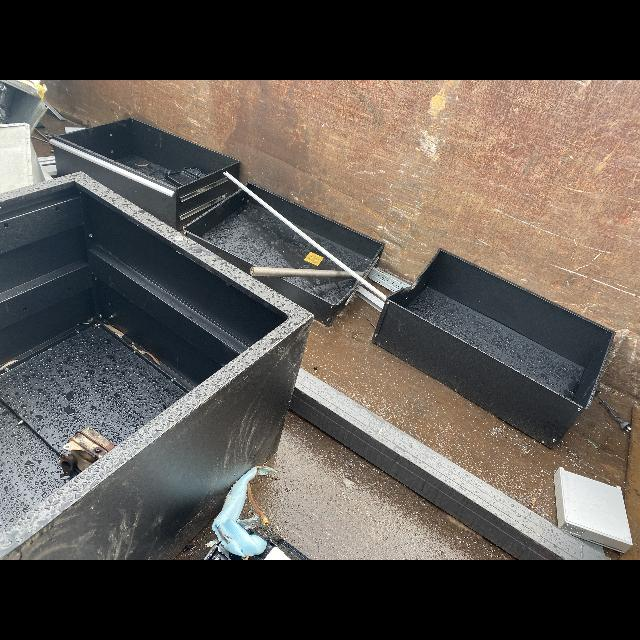Aluminium: (223, 171, 387, 301), (554, 467, 633, 554), (355, 285, 385, 313), (345, 282, 362, 305), (363, 256, 379, 279), (37, 156, 56, 165)
Ferrous Metal: (0, 170, 314, 560), (289, 367, 612, 560), (372, 250, 615, 448), (49, 117, 239, 231), (184, 189, 344, 276), (244, 180, 385, 278), (252, 276, 360, 327), (367, 267, 411, 292), (574, 536, 605, 555)
Galvanized Steel: (0, 122, 45, 193), (0, 81, 48, 135)
